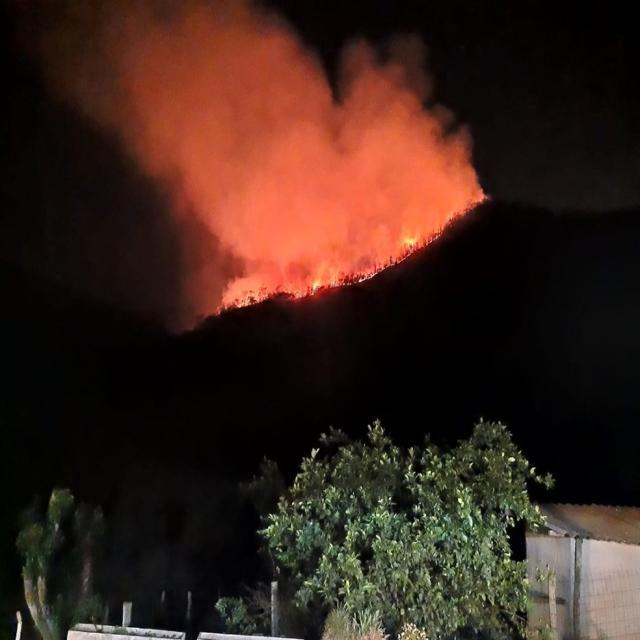Fire: (388, 218, 426, 260)
Smoke: (139, 58, 332, 180)
